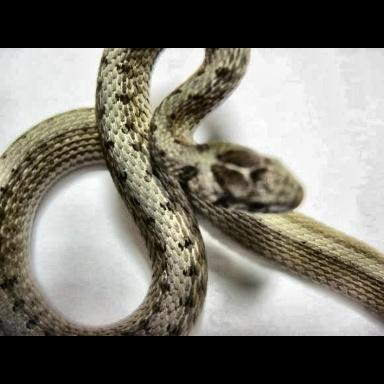snake: (0, 48, 384, 335)
